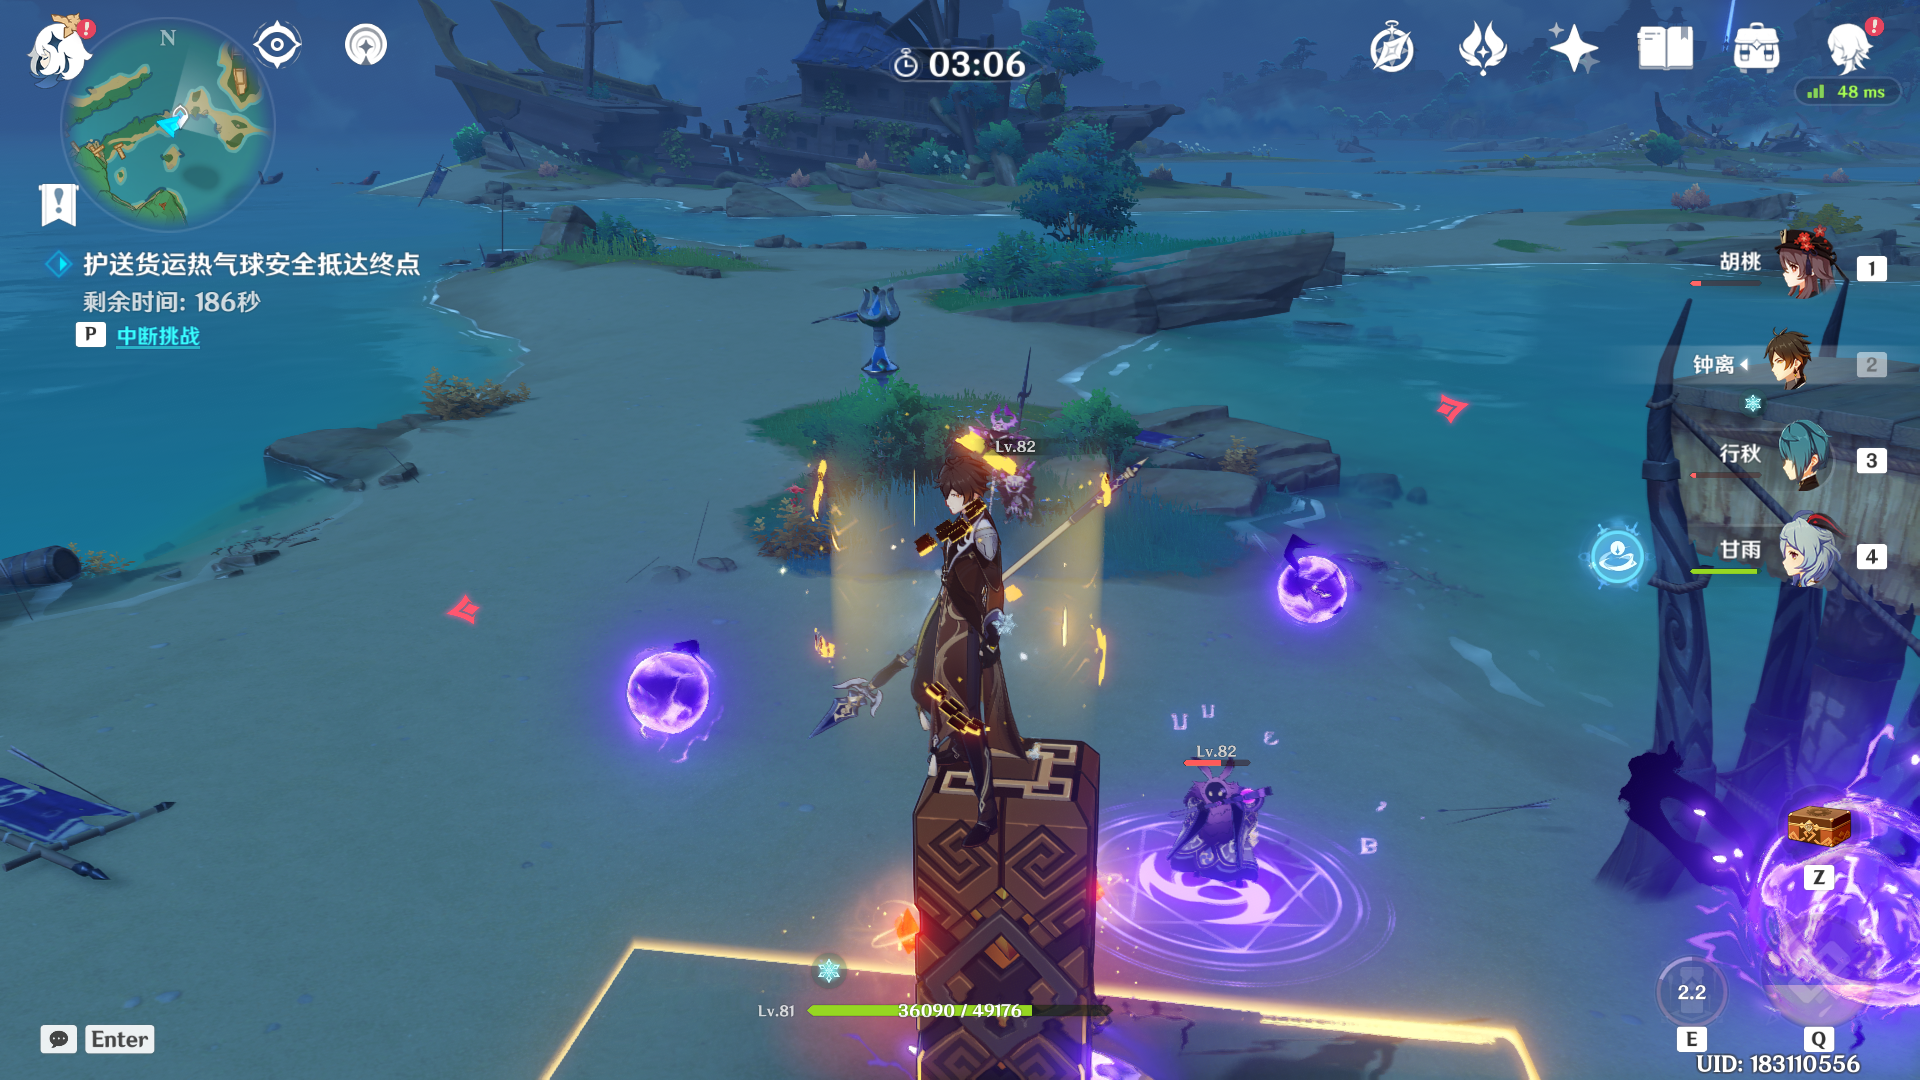caster: (1145, 752, 1308, 899)
hili: (845, 430, 1088, 823)
